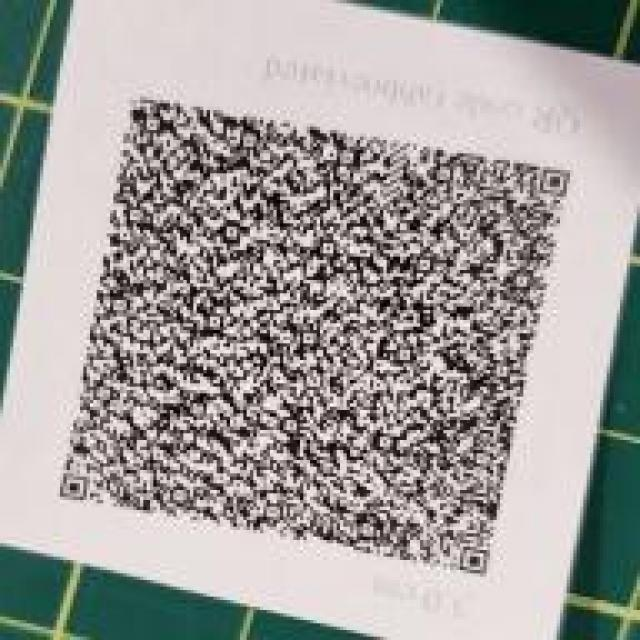QR_CODE: (40, 80, 580, 610)
